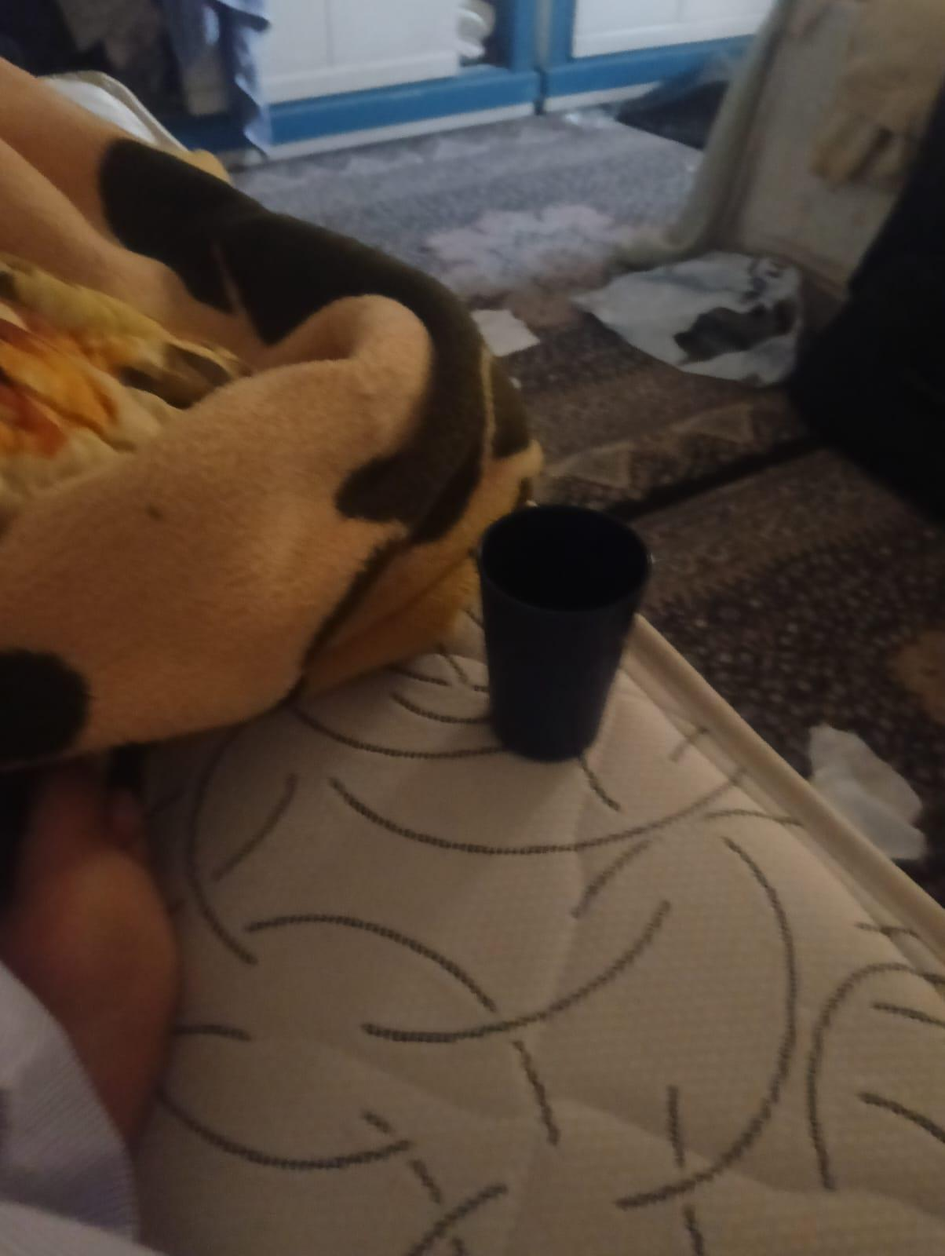cup: (478, 506, 651, 762), (526, 537, 635, 610)
